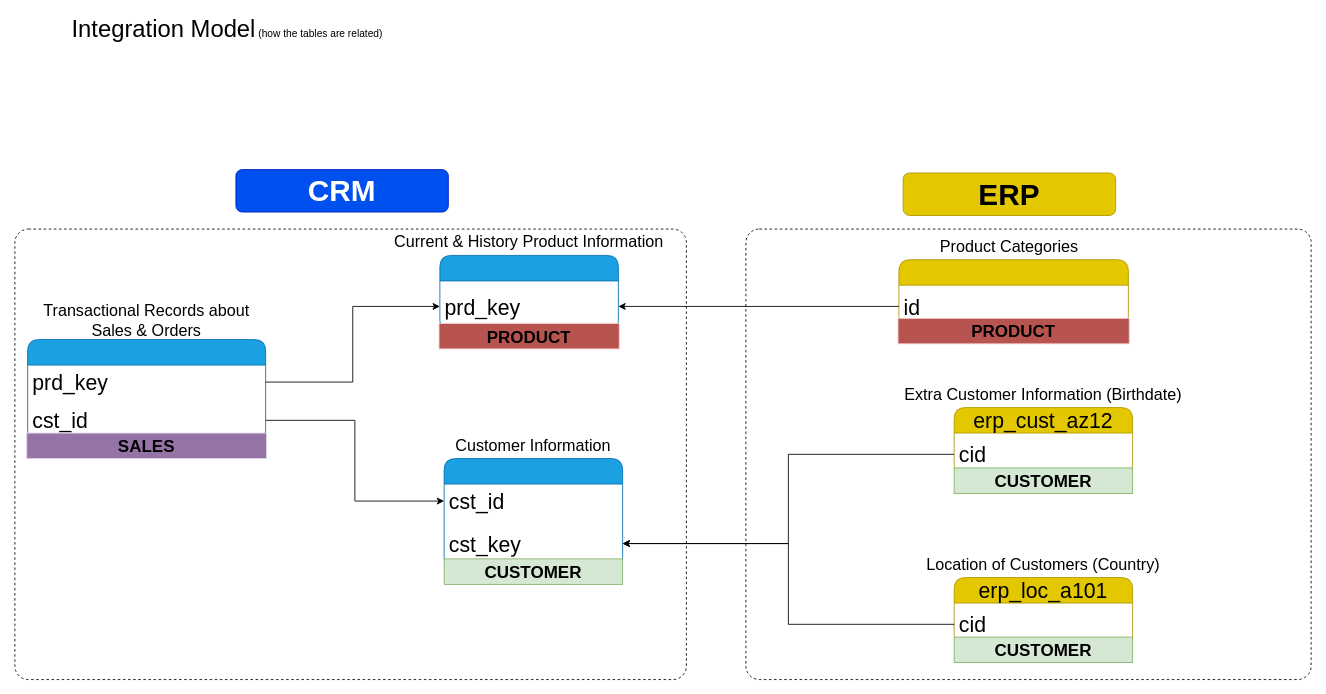
Image size: 1326x694. Some labels were removed from this diagram. Here are the shapes that lost their labels. From the top down, the box of each, then its label:
(439, 255, 618, 332): crm_prd_info
(898, 259, 1128, 328): erp_px_cat_g1v2
(27, 339, 266, 442): crm_sales_details
(443, 458, 623, 569): crm_cust_info
